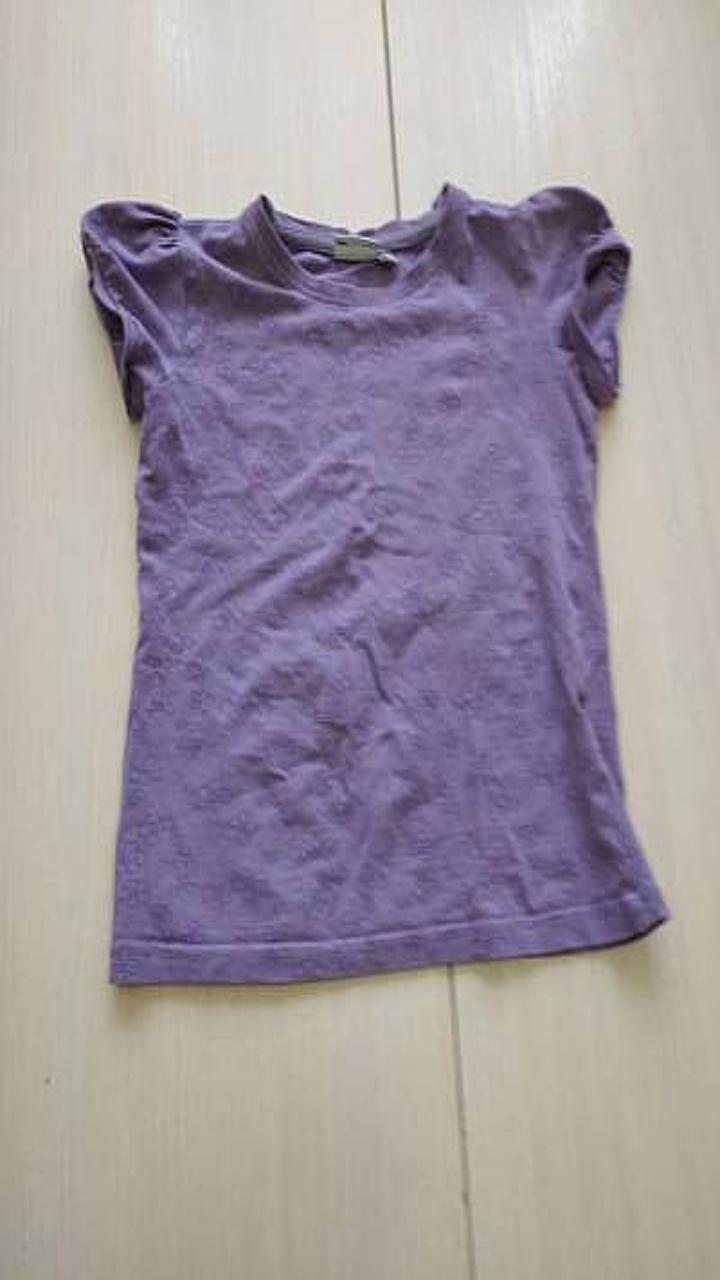T-Shirt: (81, 182, 668, 983)
